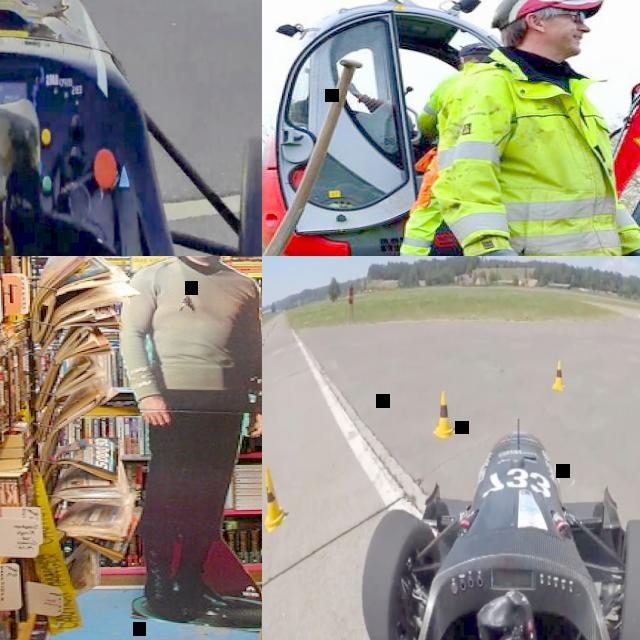vest: (436, 60, 625, 256), (410, 122, 615, 256), (430, 65, 506, 137)
